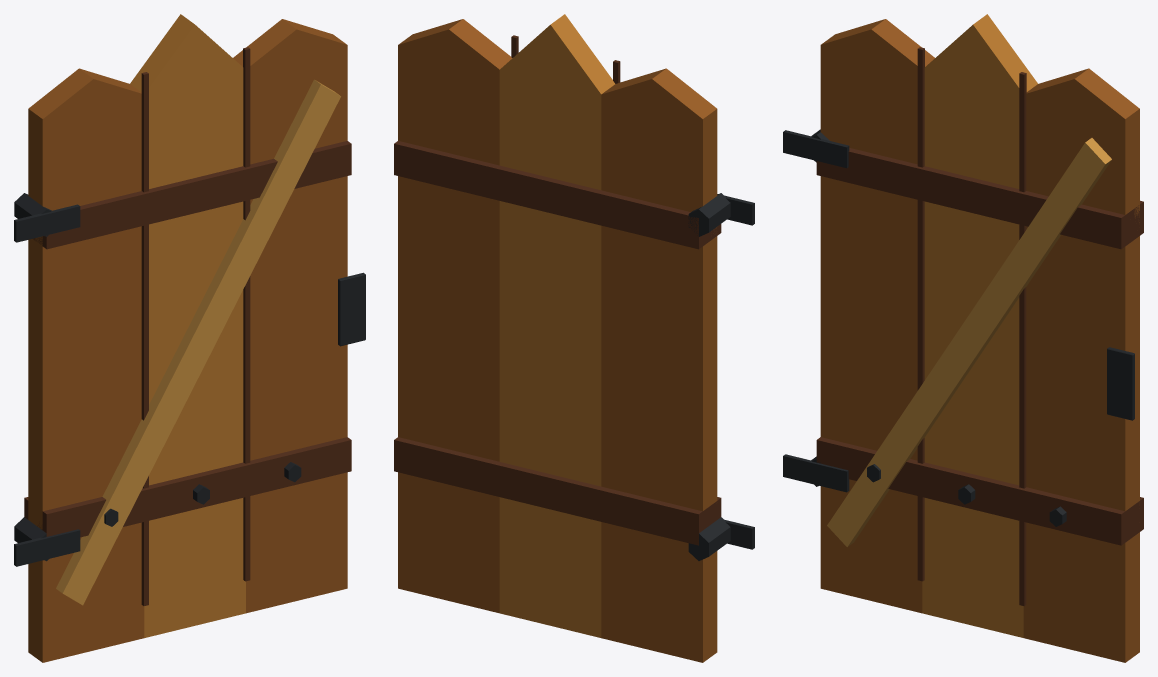
3 renders of one model, left to right at view 1: azimuth 30°, elevation 25°; view 2: azimuth 150°, elevation 25°; view 3: azimuth 330°, elevation 25°, orthographic.
Parts seen in each view (by area): view 1: WK_WoodPalisade_W16_LOD0; view 2: WK_WoodPalisade_W16_LOD0; view 3: WK_WoodPalisade_W16_LOD0.
Boxes of the visible parts, x1,y1,x2,y2 form: WK_WoodPalisade_W16_LOD0: [14, 14, 365, 662]; WK_WoodPalisade_W16_LOD0: [394, 14, 754, 662]; WK_WoodPalisade_W16_LOD0: [783, 14, 1143, 662].
Bounding box in the file's own units: 2.1 × 3.45 × 0.28.
